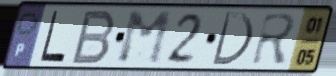2: (162, 11, 205, 66)
B: (68, 8, 118, 66)
D: (209, 10, 255, 68)
L: (38, 9, 68, 65)
M: (115, 9, 175, 67)
R: (249, 12, 300, 68)
